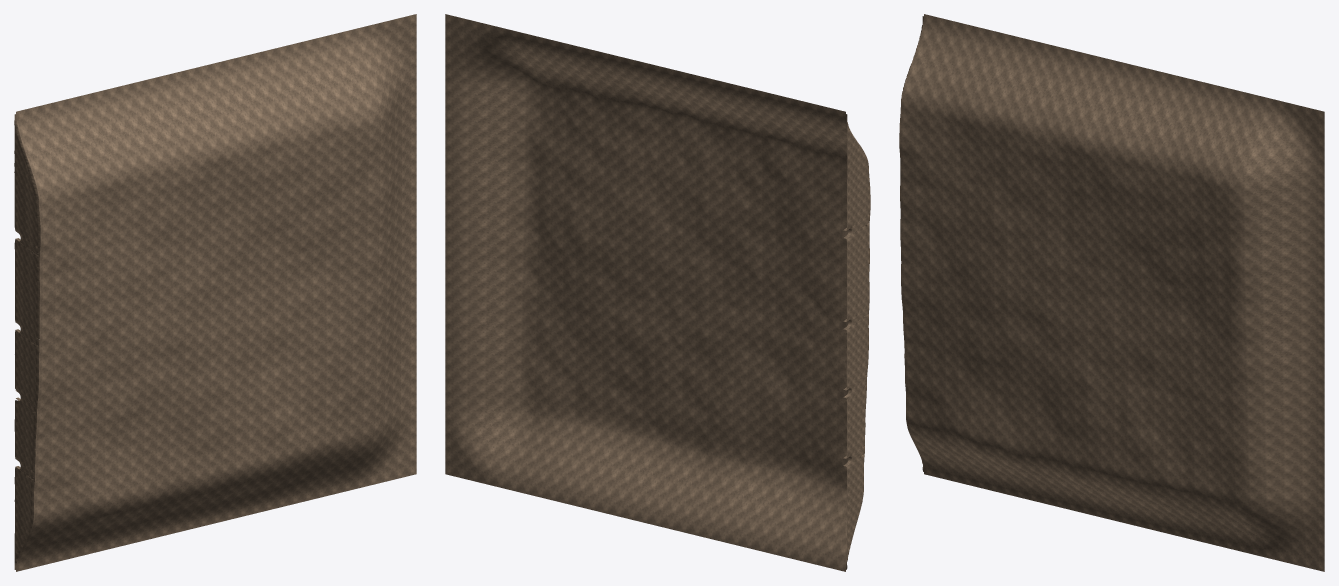
Rendered from hillside.obj.
3 renders of one model, left to right at view 1: azimuth 30°, elevation 25°; view 2: azimuth 150°, elevation 25°; view 3: azimuth 330°, elevation 25°, orthographic.
Visible parts, largest first — view 1: hillside; view 2: hillside; view 3: hillside.
Boxes of the visible parts, x1=… form: hillside: x1=14, y1=14, x2=416, y2=571; hillside: x1=445, y1=14, x2=870, y2=571; hillside: x1=899, y1=14, x2=1324, y2=571.
Size of the model in its own units: 185 by 202 by 19.76.
Materials: 1 (1 with a texture image).
